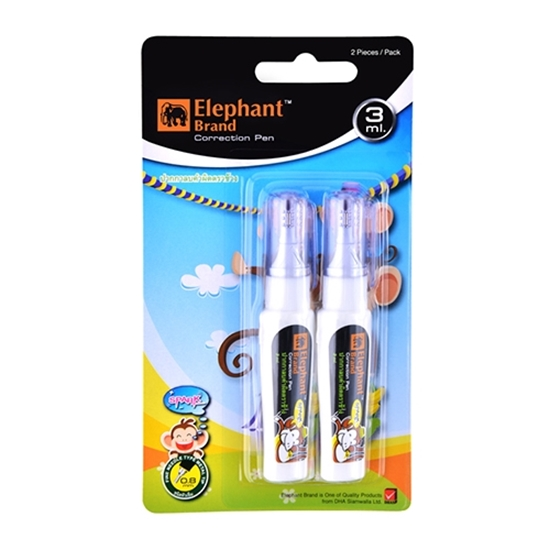Correction_fluid: (252, 188, 318, 486), (313, 185, 378, 487)
